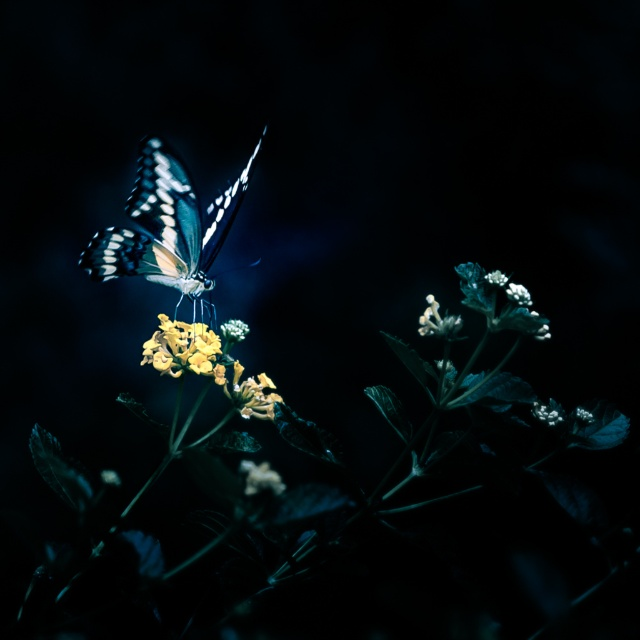Butterfly: (84, 127, 272, 325)
